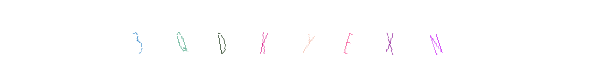3: (134, 0, 214, 80)
D: (235, 0, 315, 80)
E: (332, 0, 412, 80)
K: (260, 0, 340, 80)
N: (397, 0, 477, 80)
Q: (181, 0, 261, 80)
X: (334, 0, 414, 80)
Y: (267, 0, 347, 80)
